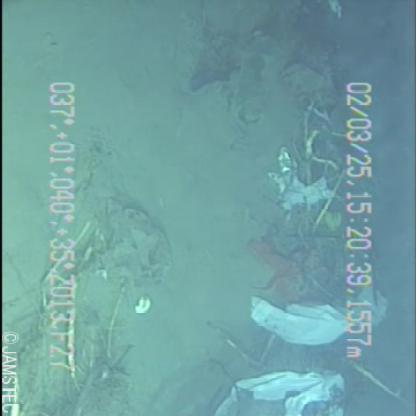Rác: (226, 268, 392, 352), (202, 360, 358, 416), (261, 141, 349, 213)
